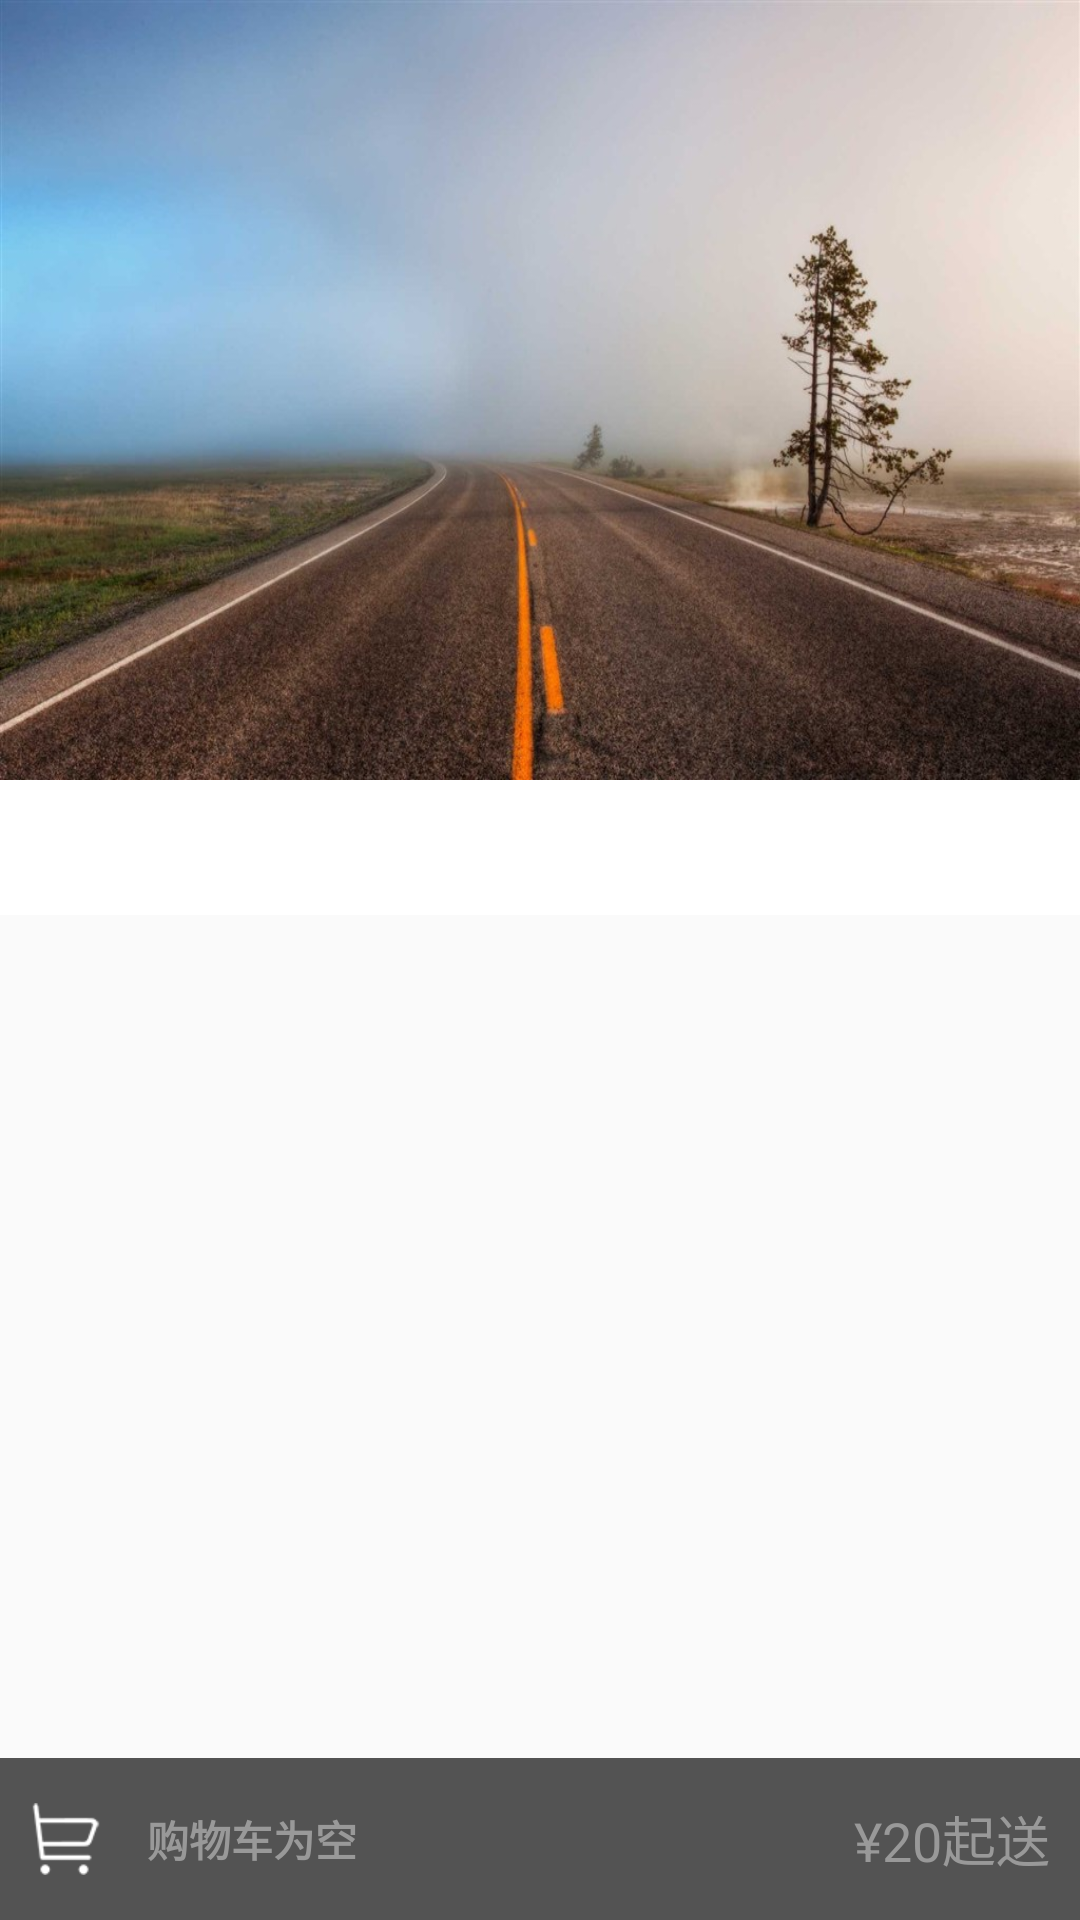

Screen size 1080 x 1920. Icon name, then its box in pixels as (x1, y1, x2, y2):
cart: (33, 1803, 99, 1875)
